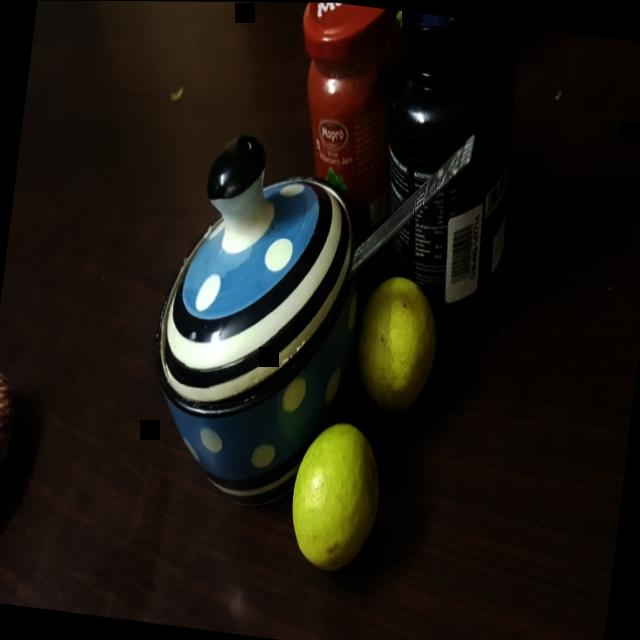lemon: (279, 411, 391, 580), (341, 268, 456, 416)
